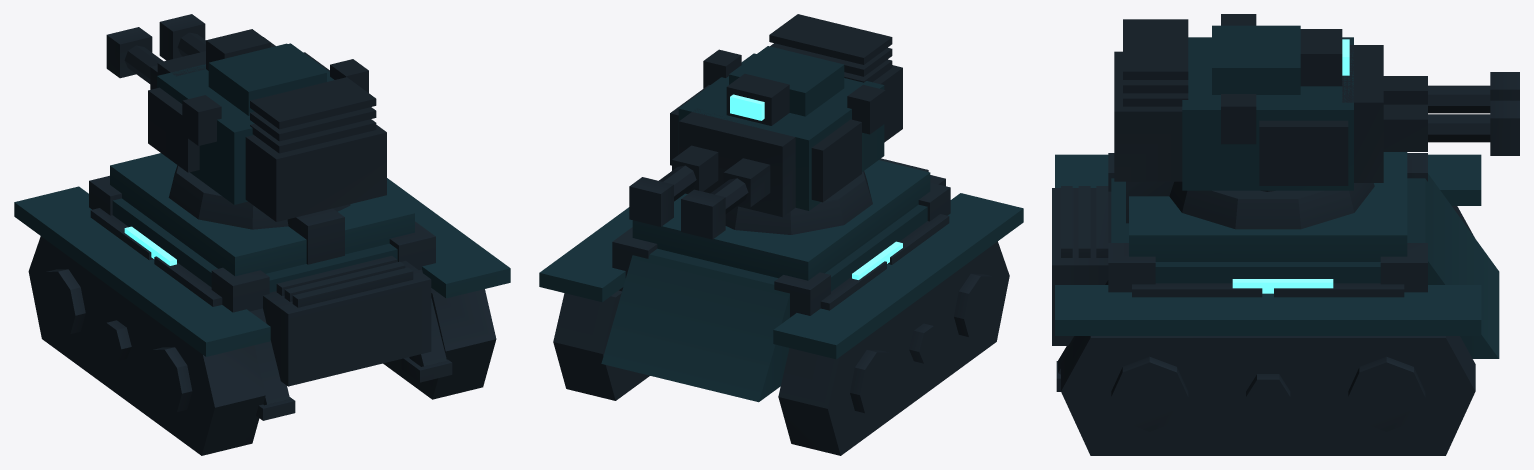
Rendered from turret.glb.
3 views of the same model, side by side, from view 1: azimuth 30°, elevation 25°; view 2: azimuth 150°, elevation 25°; view 3: azimuth 270°, elevation 25° (orthographic). The views are drawn at different scales.
Parts seen in each view (by area): view 1: turret_base, turret_head; view 2: turret_base, turret_head; view 3: turret_base, turret_head.
Boxes of the visible parts, x1,y1,x2,y2 form: turret_base: (14,153,510,455); turret_head: (106,14,386,221); turret_base: (539,158,1023,455); turret_head: (629,14,902,239); turret_base: (1052,152,1499,455); turret_head: (1114,14,1519,191).
Size of the model in its own units: 1.32 by 1.26 by 1.58.
